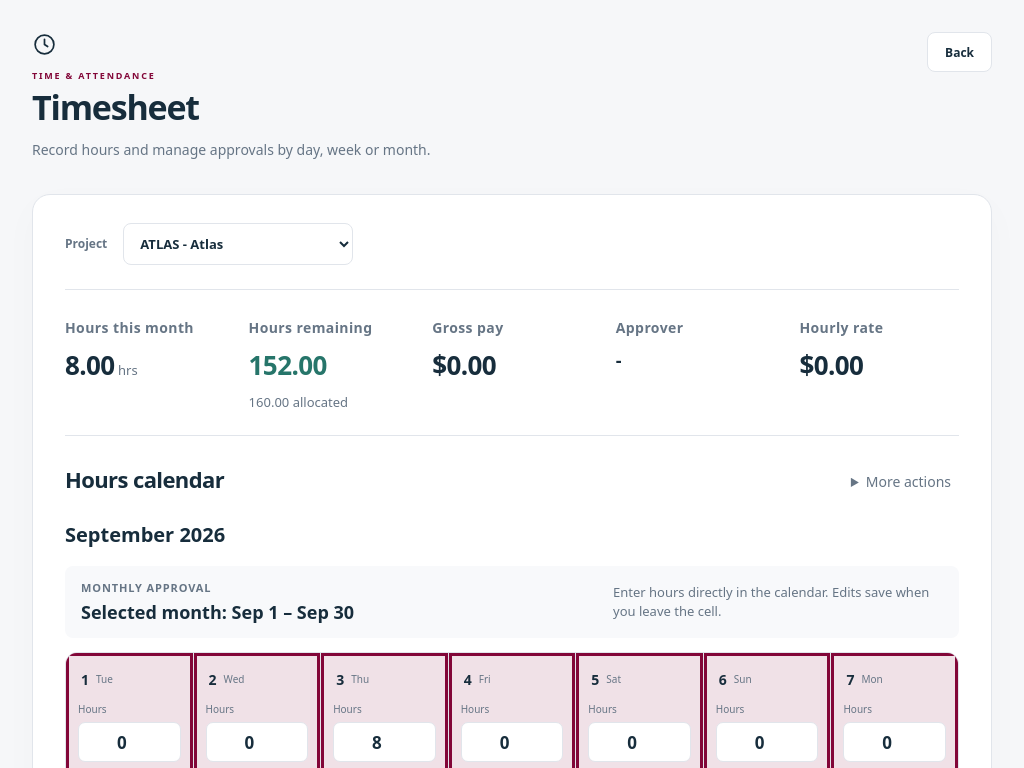
shows backend validation messages when hour saves fail
Replace the text in the number field named "Hours for 2026-09-03" with "7": (384, 742) [333,722,436,762]
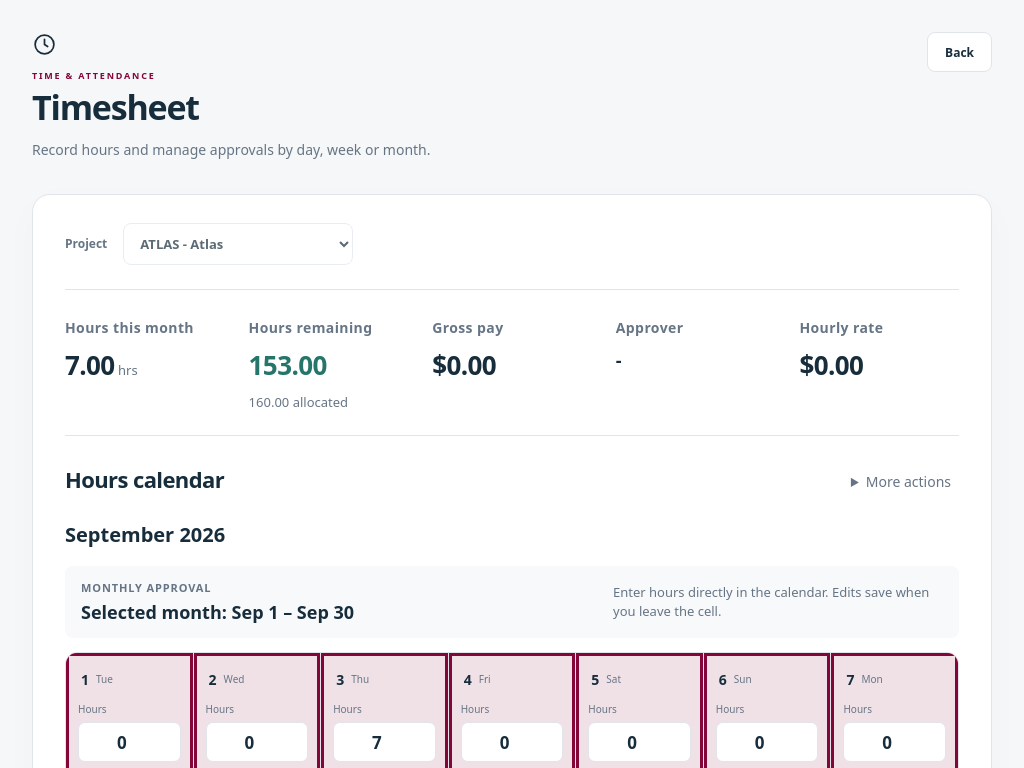
Leave the number field named "Hours for 2026-09-03", box [333,722,436,762]
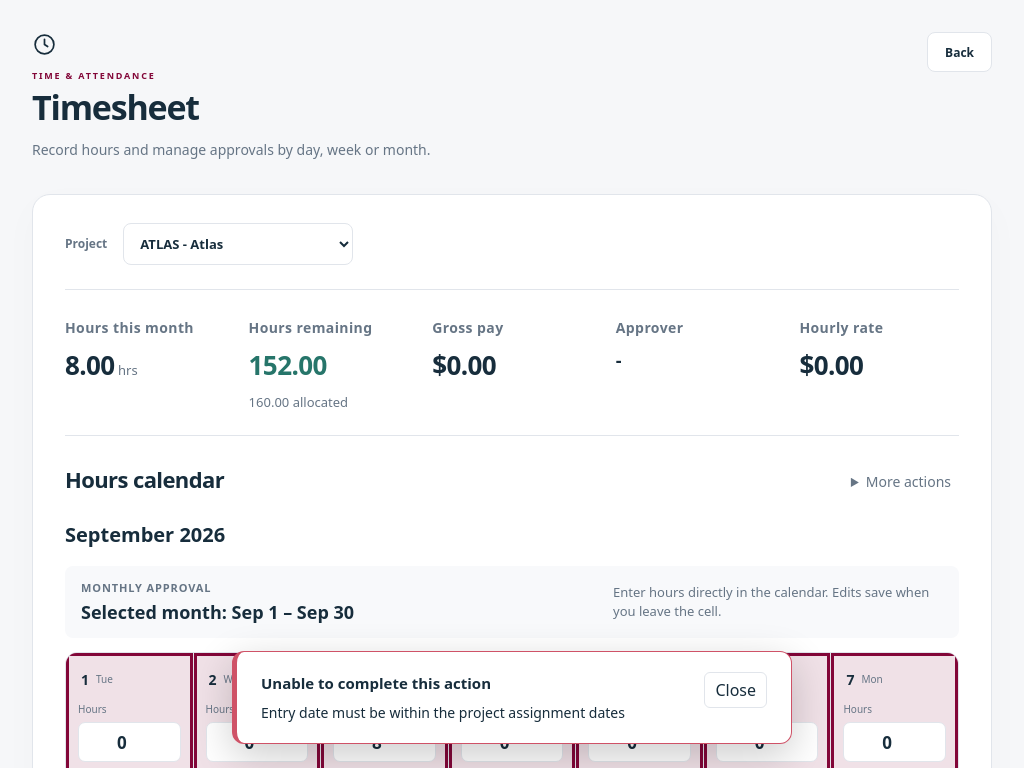
expect the text "Entry date must be within the project assignment dates" is shown: met, box [261,702,684,723]
